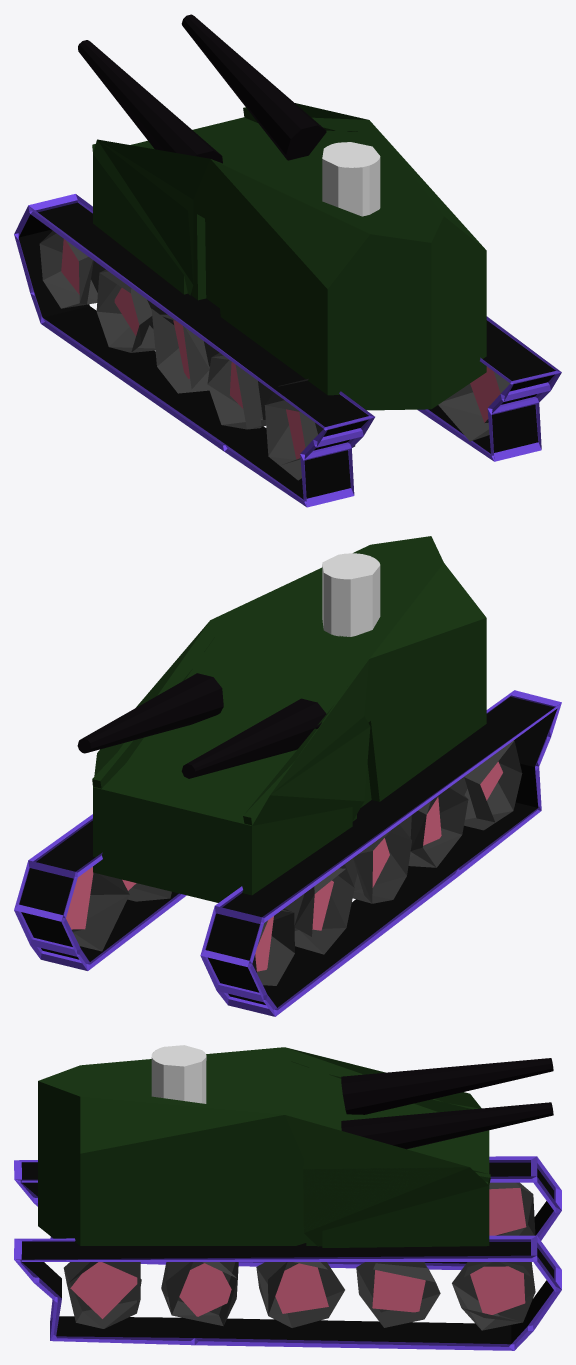
File: tank.fbx
3 views of the same model, one above another, from view 1: azimuth 30°, elevation 25°; view 2: azimuth 150°, elevation 25°; view 3: azimuth 270°, elevation 25° (orthographic). The views are drawn at different scales.
Parts seen in each view (by area): view 1: merged; view 2: merged; view 3: merged.
Boxes of the visible parts, x1=… form: merged: x1=14, y1=14, x2=561, y2=507; merged: x1=14, y1=536, x2=561, y2=1016; merged: x1=14, y1=1045, x2=561, y2=1350.
Bounding box in the file's own units: 295 × 338 × 685.
